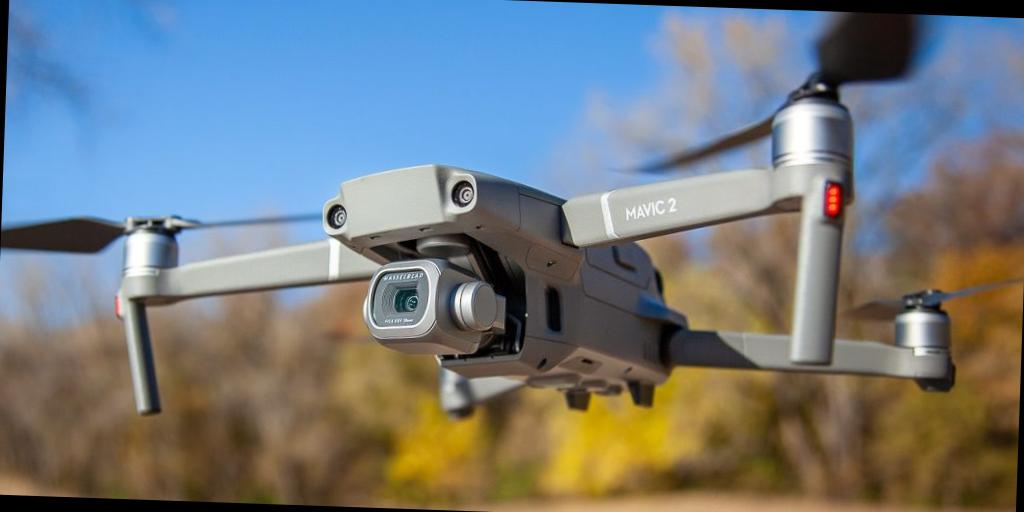drone: (28, 100, 995, 444)
